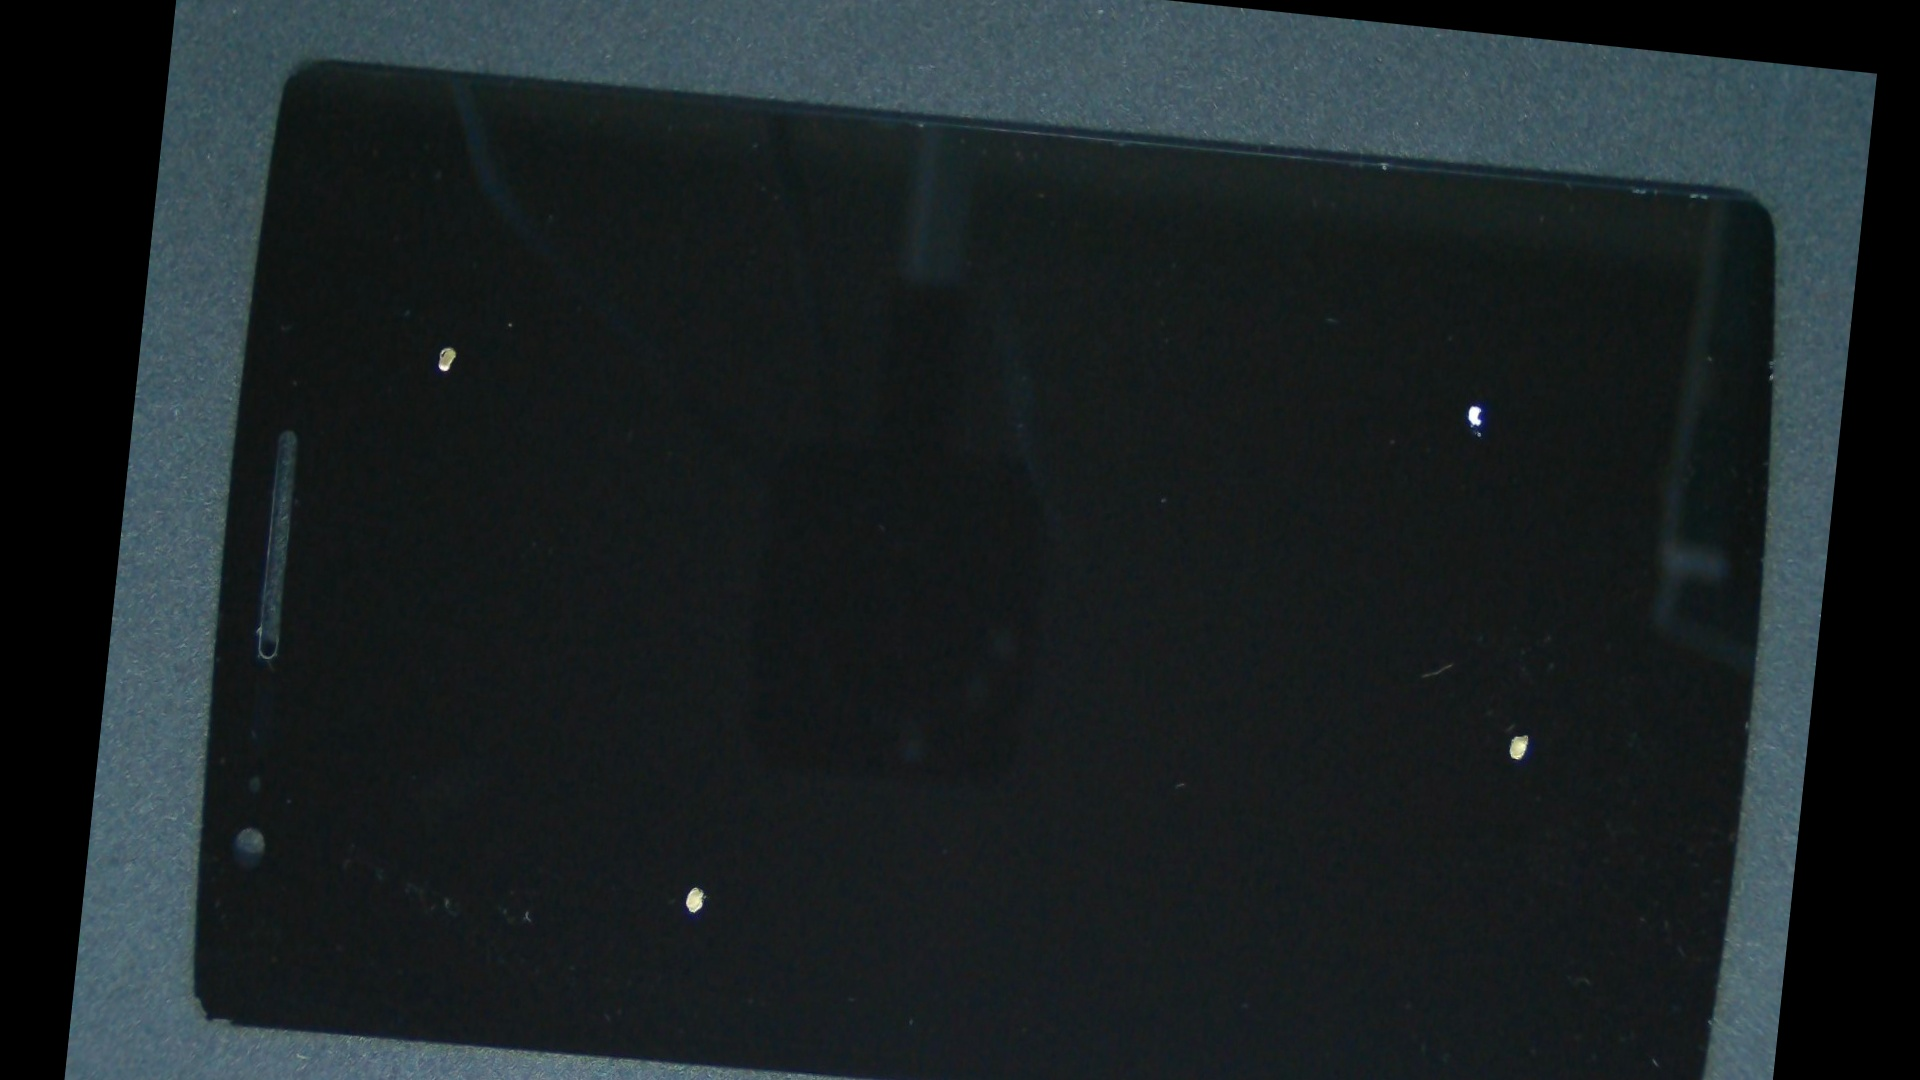oil: (781, 315, 1841, 1080), (794, 150, 1858, 625), (368, 386, 1039, 1080), (276, 120, 622, 566)
